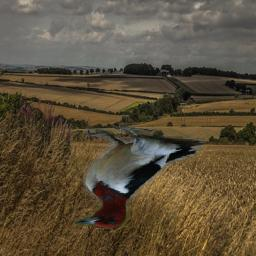Woodpecker: (72, 126, 205, 228)
